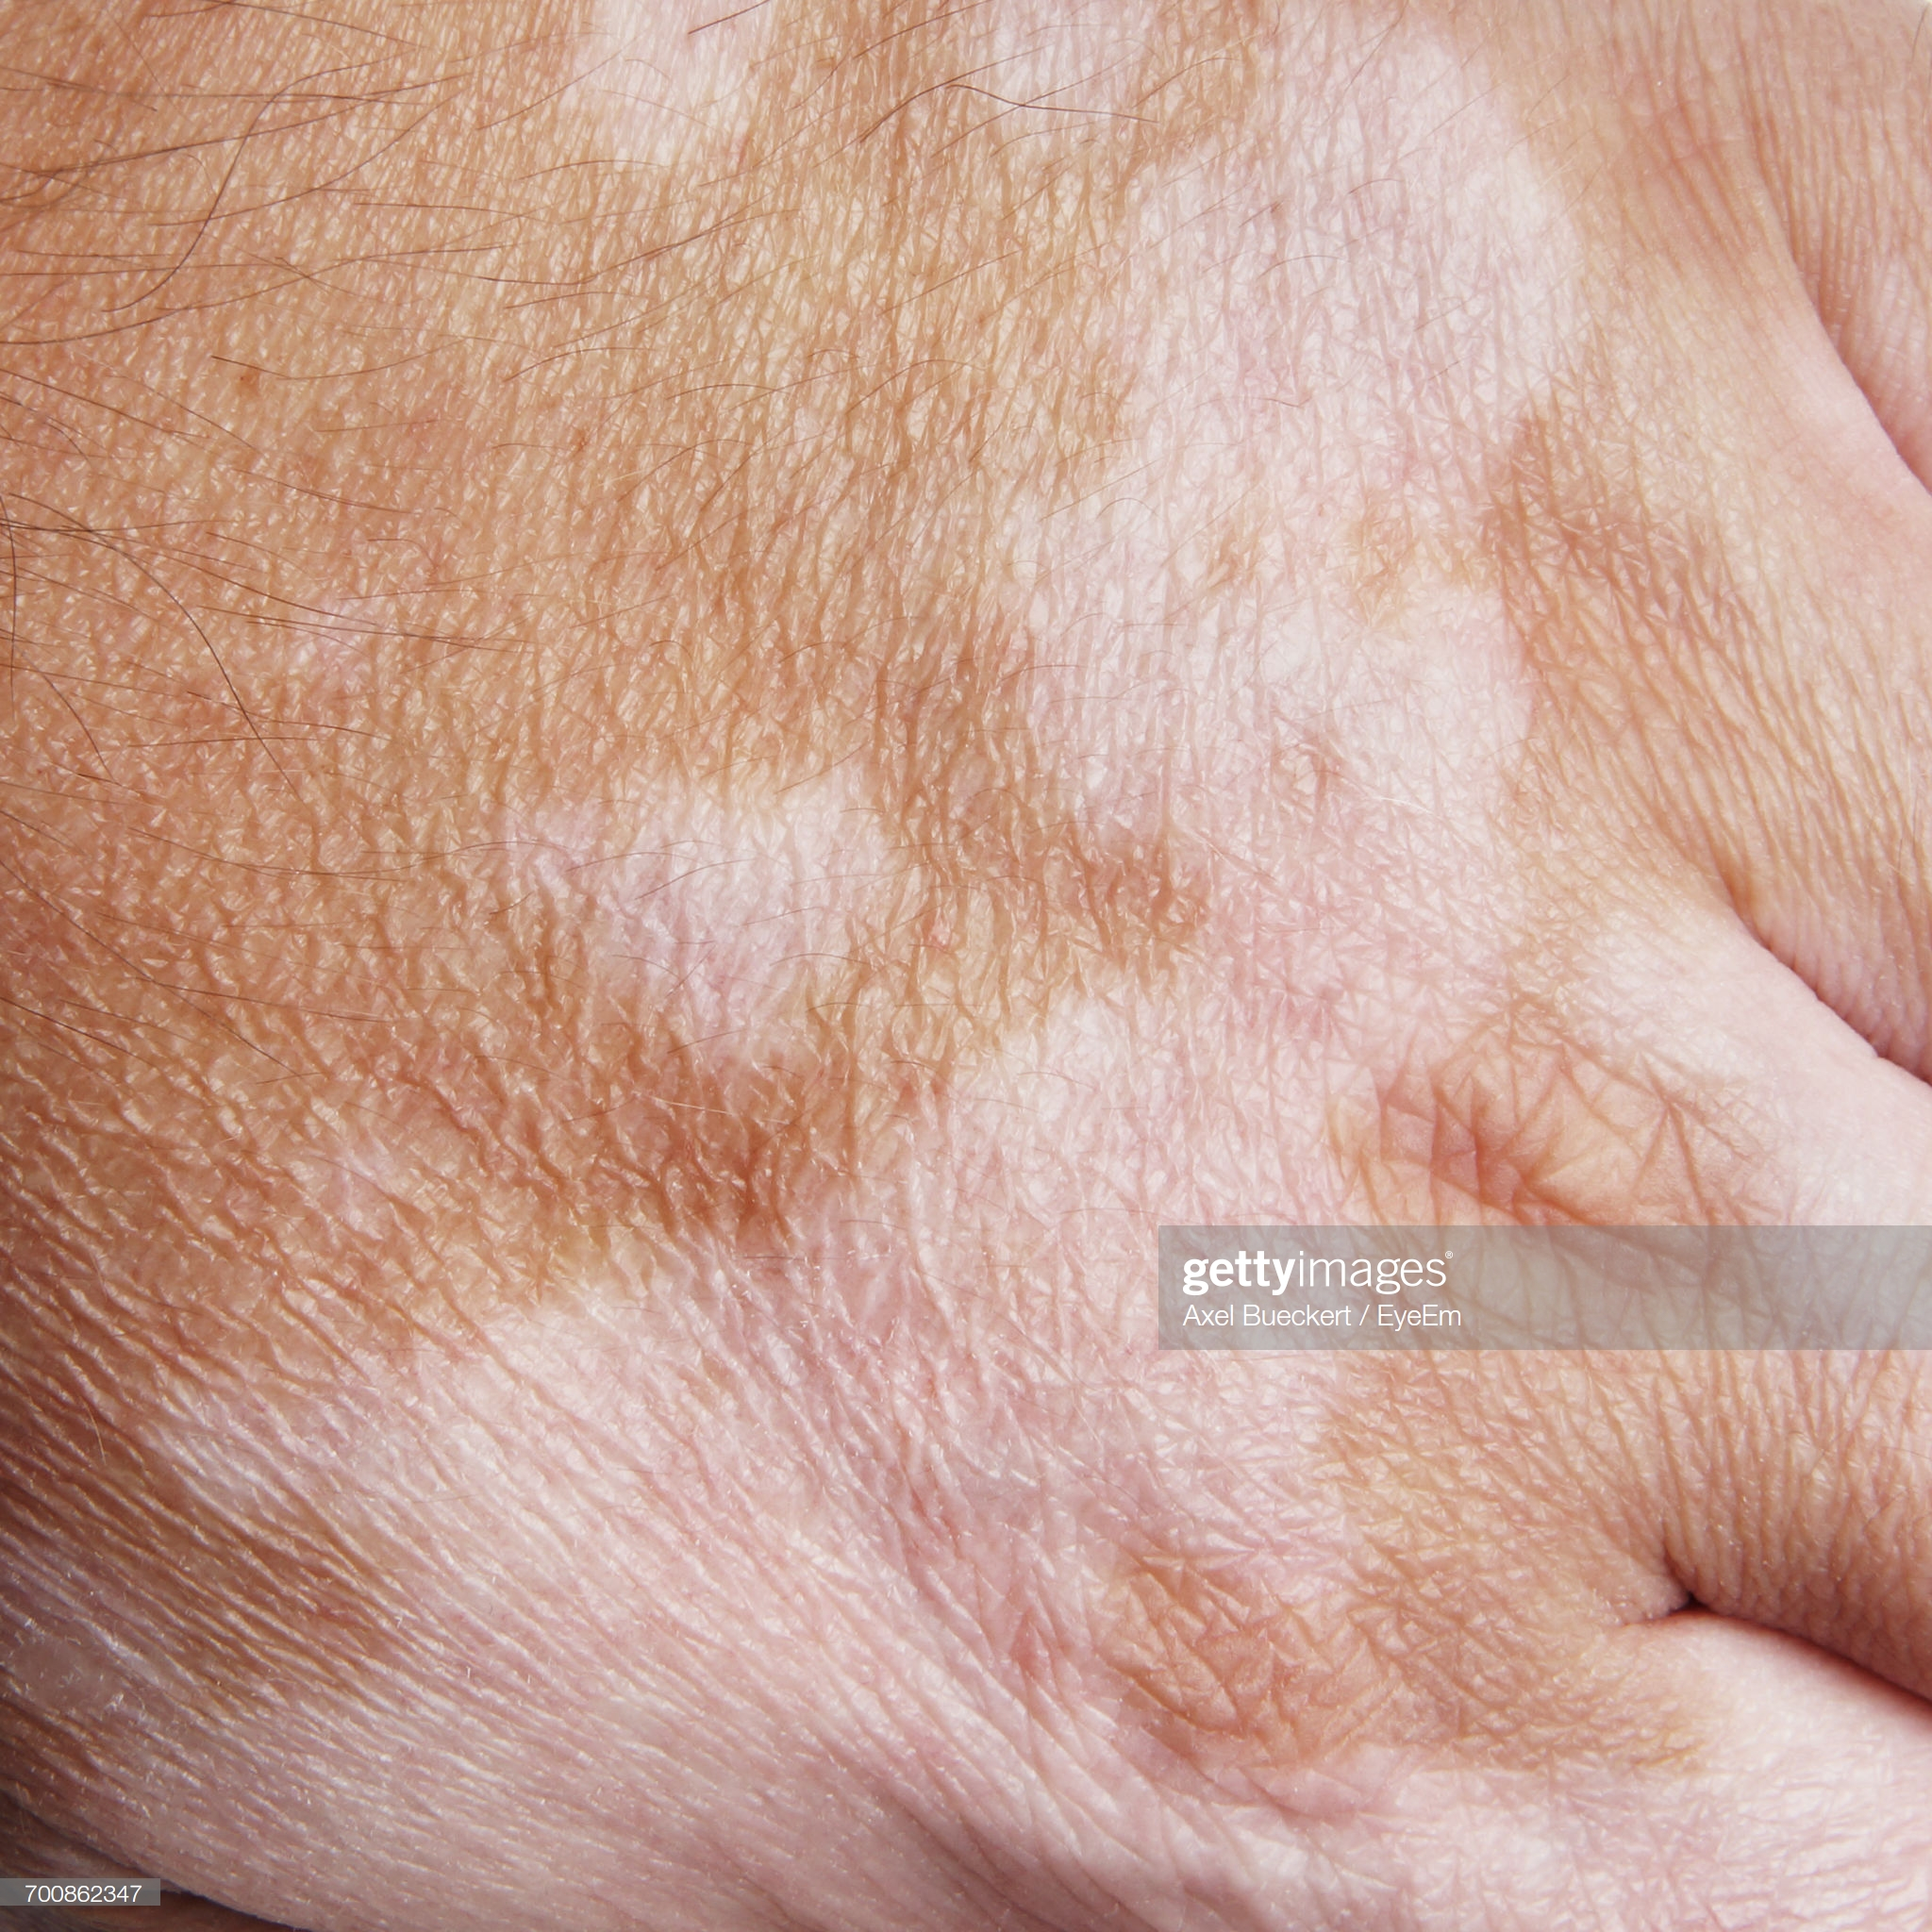vitiligo: (315, 27, 1721, 1792)
